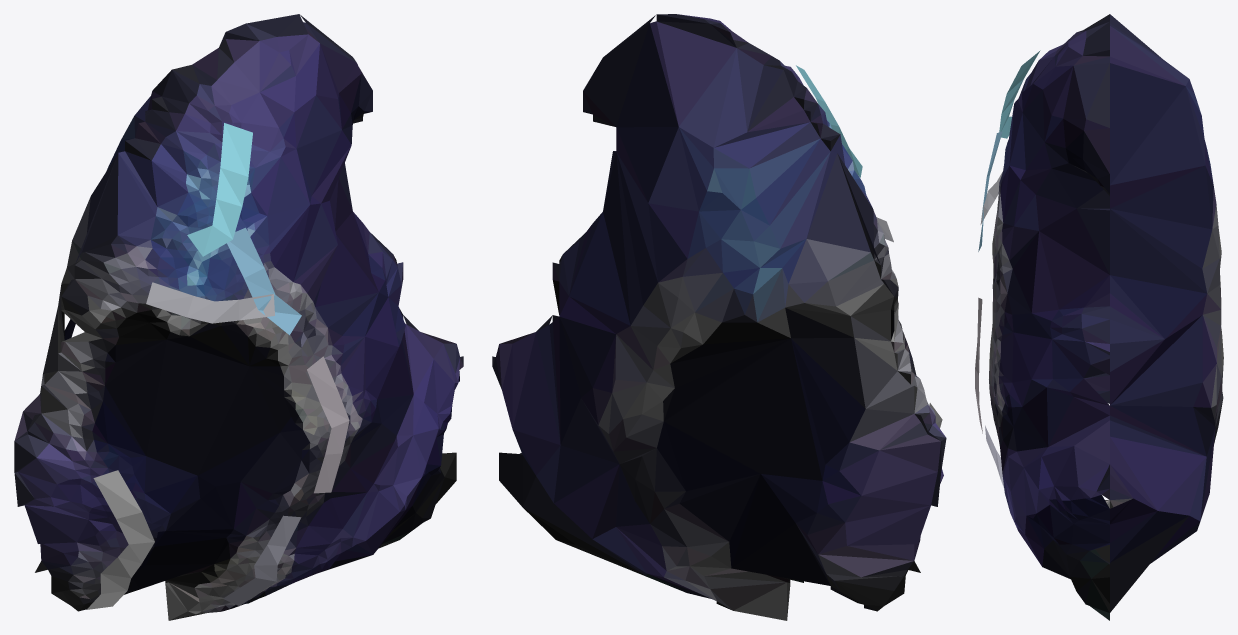
The picture shows the model from 3 angles, left to right: view 1: azimuth 30°, elevation 25°; view 2: azimuth 150°, elevation 25°; view 3: azimuth 270°, elevation 25°; orthographic projection. The views are drawn at different scales.
Parts seen in each view (by area): view 1: object 2, detail; view 2: object 2, detail; view 3: object 2, detail.
Part boxes in pixels (x1,y1,x2,y2): object 2: [14, 14, 463, 620]; detail: [86, 123, 349, 609]; object 2: [492, 14, 946, 620]; detail: [796, 65, 942, 428]; object 2: [989, 14, 1223, 620]; detail: [975, 50, 1040, 488].
Size of the model in its own units: 134 by 165 by 67.51.
